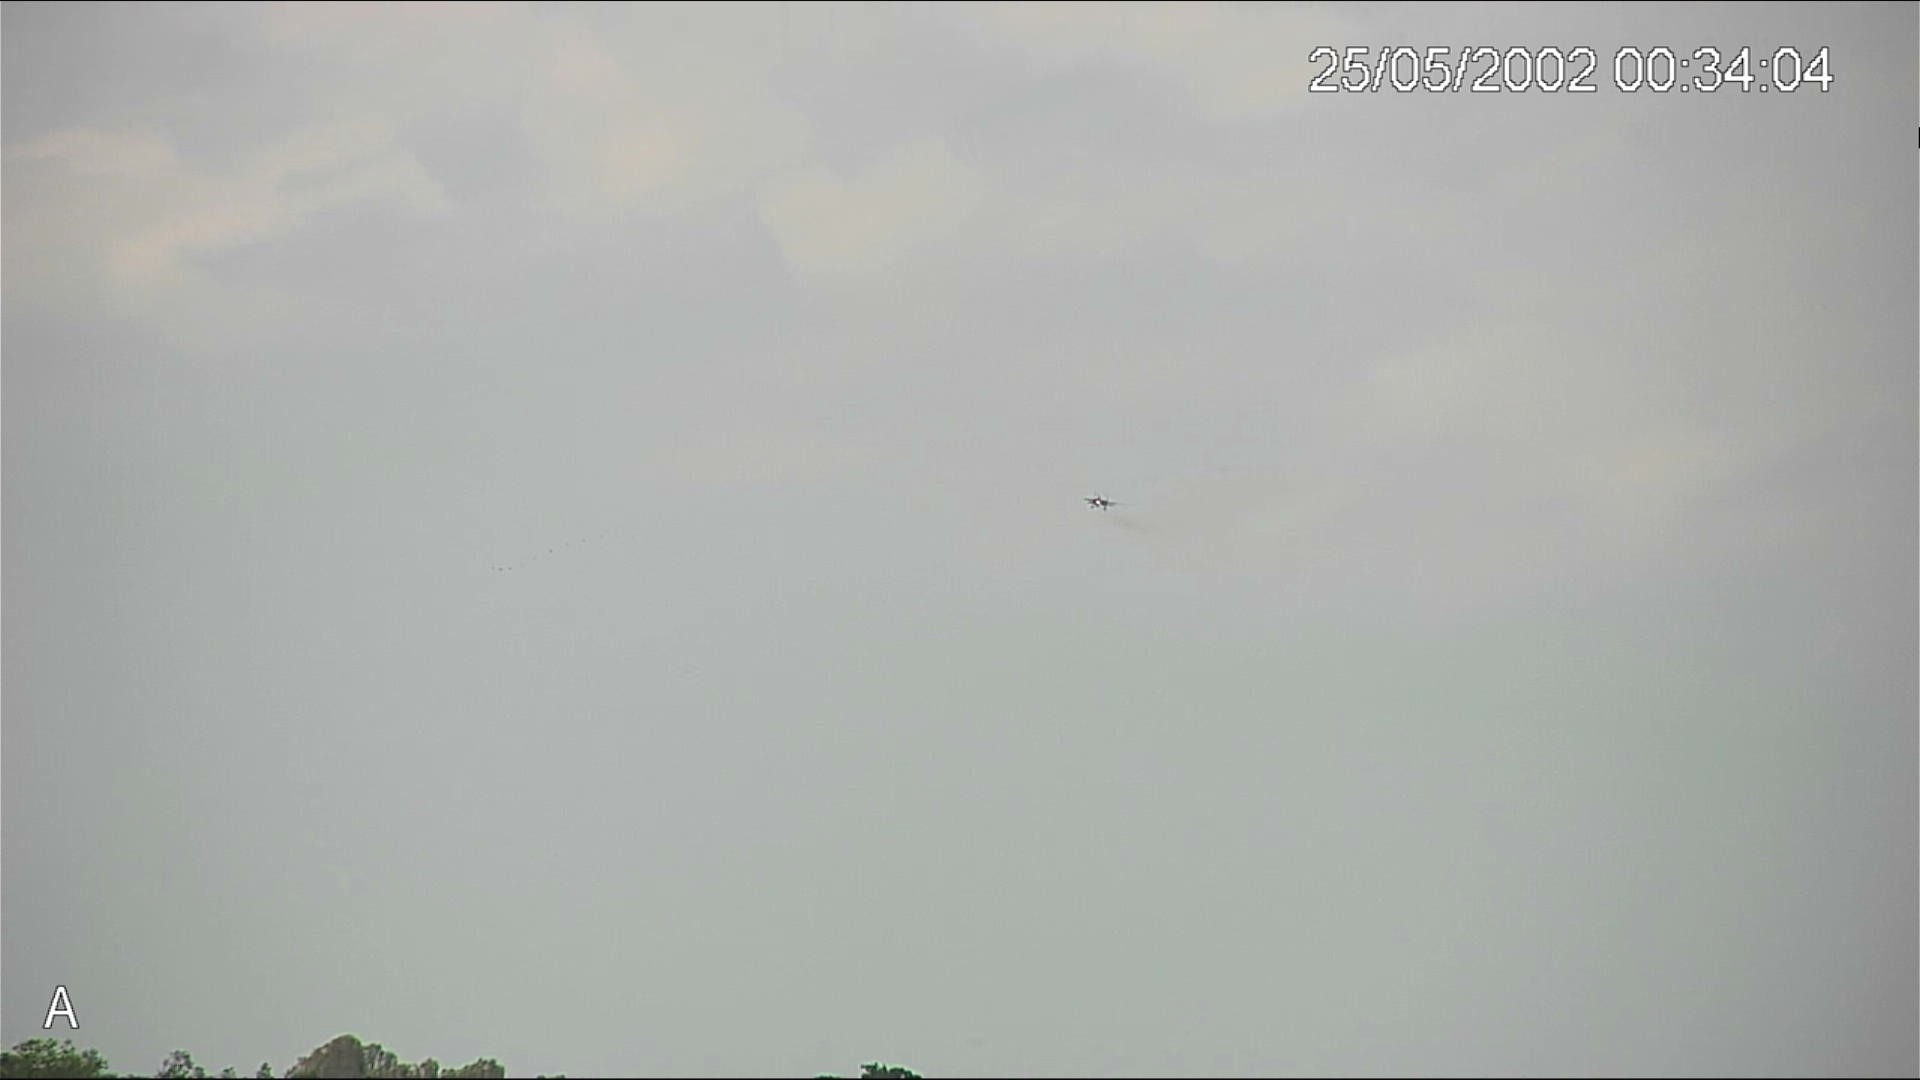SU_30: (1083, 491, 1112, 509)
